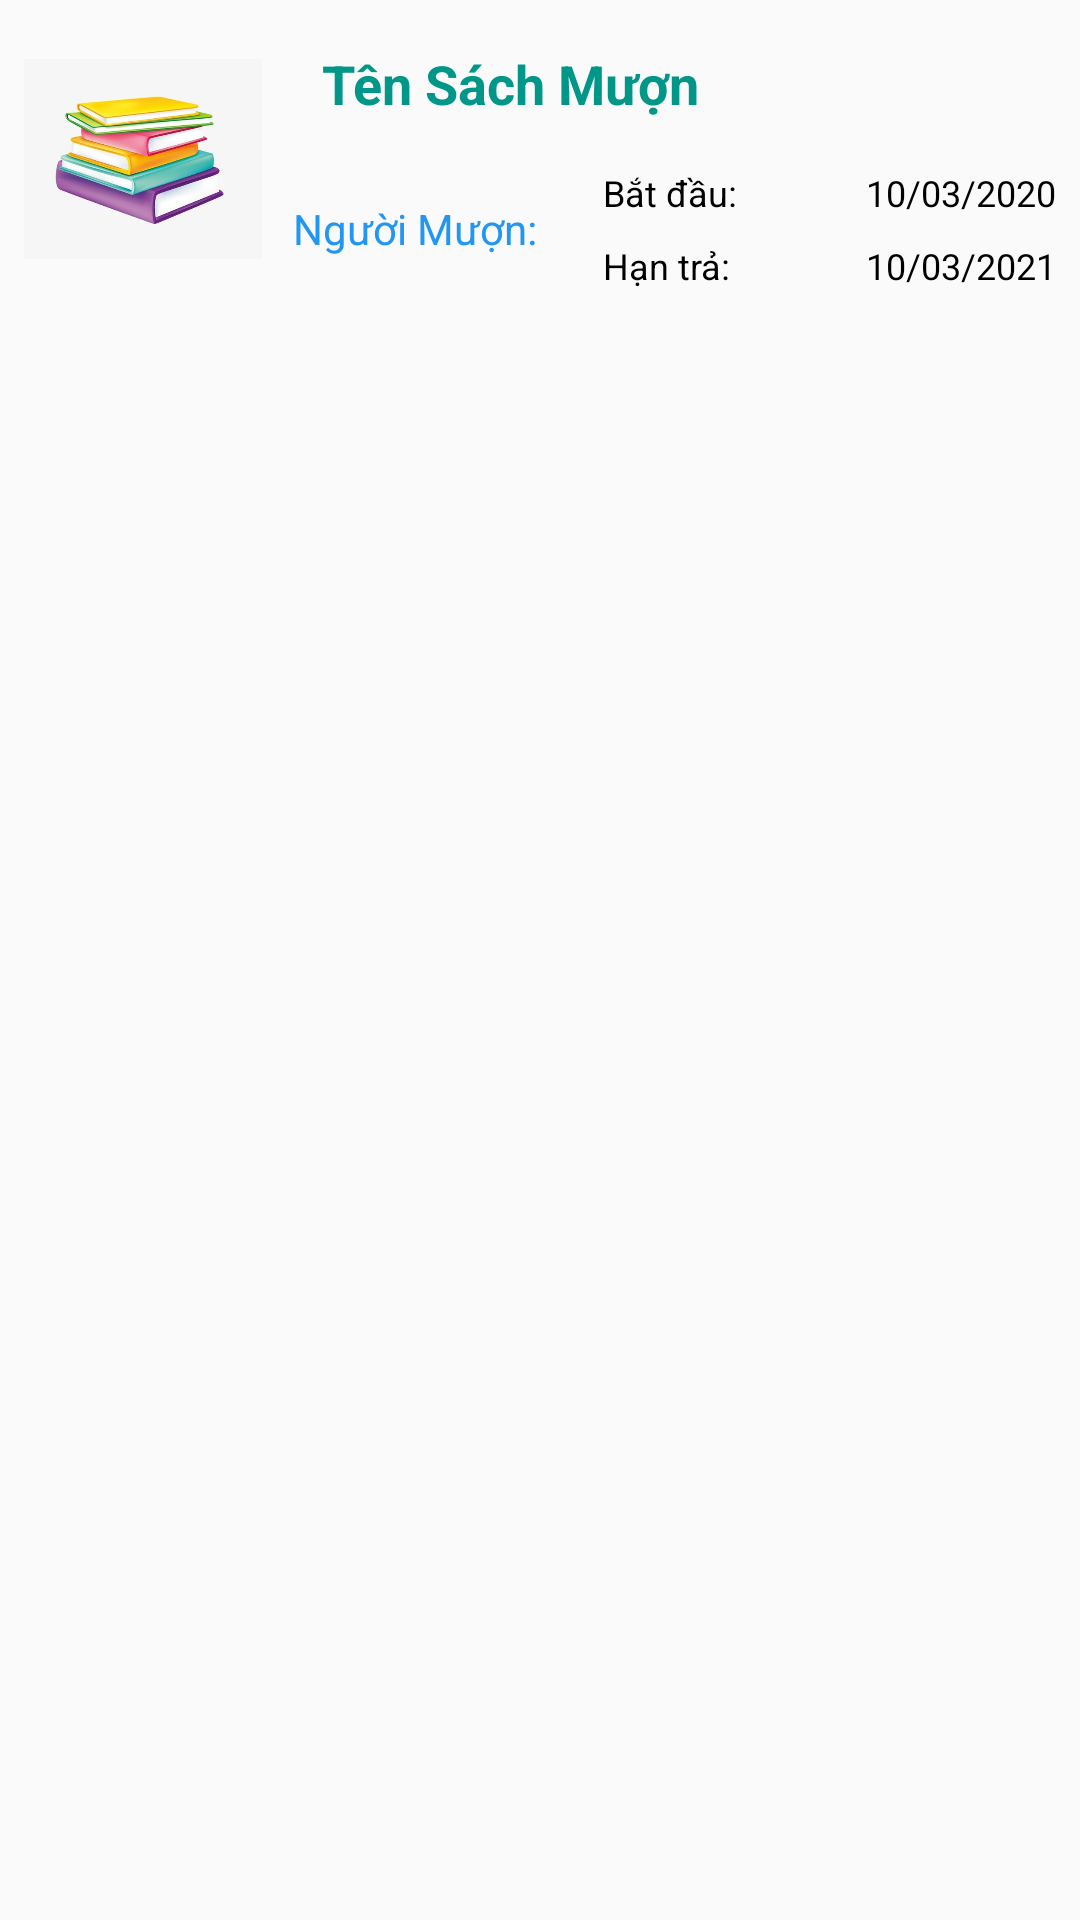

Locate icon controls on the screen. Image size 1080×1920, boxes as (x1,y1,x2,y2).
sach: (55,96,224,224)
